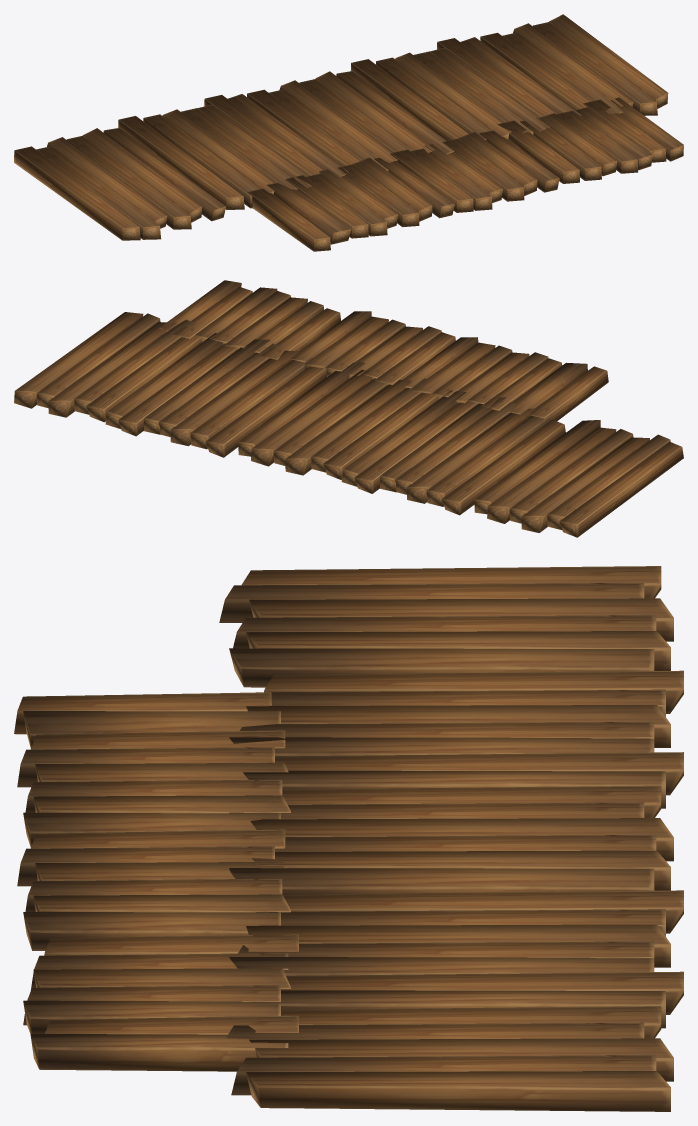
The model's file is dock.obj.
The picture shows the model from 3 angles, top to bottom: view 1: azimuth 30°, elevation 25°; view 2: azimuth 150°, elevation 25°; view 3: azimuth 270°, elevation 25°; orthographic projection. The views are drawn at different scales.
Parts seen in each view (by area): view 1: ponton; view 2: ponton; view 3: ponton.
Part boxes in pixels (bbox=[...]): ponton: bbox=[14, 14, 683, 251]; ponton: bbox=[14, 280, 683, 537]; ponton: bbox=[14, 566, 683, 1111].
Size of the model in its own units: 14.1 by 0.3603 by 7.65.
Materials: 1 (1 with a texture image).
